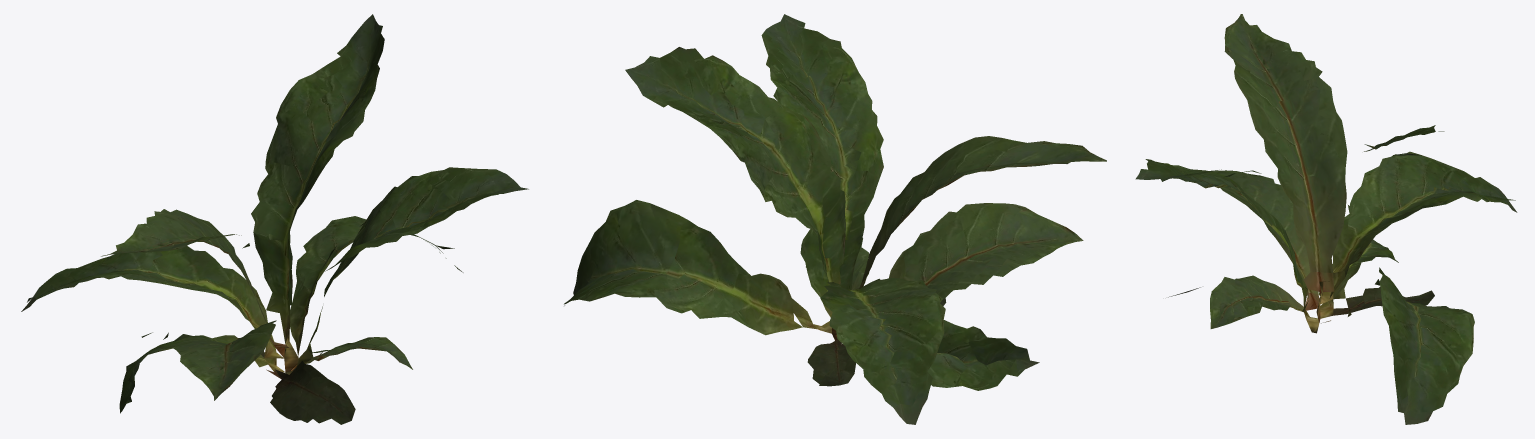
Rendered from antorio_1.glb.
3 renders of one model, left to right at view 1: azimuth 30°, elevation 25°; view 2: azimuth 150°, elevation 25°; view 3: azimuth 270°, elevation 25°, orthographic. The views are drawn at different scales.
Parts seen in each view (by area): view 1: antorio; view 2: antorio; view 3: antorio.
Boxes of the visible parts, box(x1,y1,x2,y2) form: antorio: box(21, 14, 528, 424); antorio: box(564, 14, 1106, 424); antorio: box(1135, 14, 1517, 424).
Bounding box in the file's own units: 0.7433 × 0.4572 × 0.5568.
Materials: 1 (1 with a texture image).
